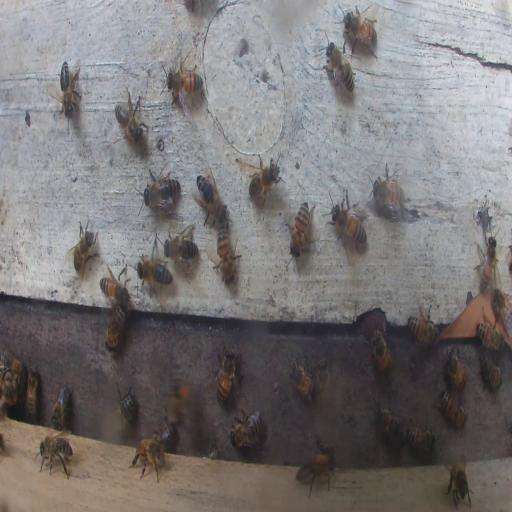nonpollenbee: (246, 155, 284, 208), (330, 194, 368, 246), (194, 170, 227, 228), (340, 5, 378, 54), (371, 167, 406, 219), (69, 217, 98, 279), (324, 39, 356, 95), (142, 169, 182, 213), (137, 241, 172, 291), (297, 449, 333, 496), (36, 433, 74, 476), (113, 93, 144, 145), (214, 226, 240, 282), (163, 66, 204, 101), (131, 435, 164, 478), (407, 304, 440, 347), (166, 227, 200, 268), (57, 60, 81, 118), (476, 238, 500, 294), (288, 201, 312, 257), (446, 453, 470, 507), (230, 409, 262, 449), (436, 389, 467, 428), (374, 403, 405, 442), (216, 348, 237, 404), (100, 269, 130, 308), (289, 356, 314, 402), (50, 382, 72, 430), (104, 300, 124, 350), (444, 349, 467, 391), (370, 329, 391, 374), (475, 318, 503, 350), (404, 424, 436, 452), (491, 290, 512, 332), (25, 366, 39, 420), (116, 387, 136, 423), (480, 356, 502, 388), (315, 357, 330, 401), (1, 352, 23, 380), (2, 370, 19, 405), (156, 422, 175, 448), (208, 443, 223, 458)
pollenbee: (166, 362, 191, 428)
